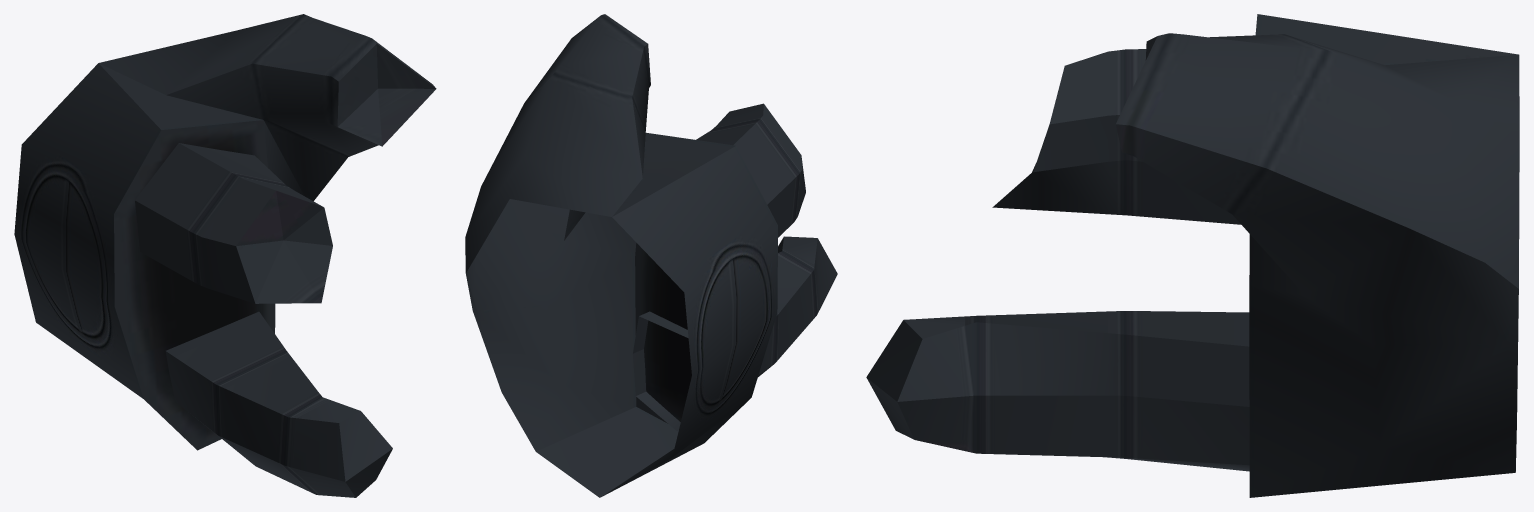
The model's file is Assist_jixiebi03_sunhuai.FBX.
3 views of the same model, side by side, from view 1: azimuth 30°, elevation 25°; view 2: azimuth 150°, elevation 25°; view 3: azimuth 270°, elevation 25° (orthographic). The views are drawn at different scales.
Parts seen in each view (by area): view 1: Assist_jixiebi03_sunhuai; view 2: Assist_jixiebi03_sunhuai; view 3: Assist_jixiebi03_sunhuai.
Part boxes in pixels (x1,y1,x2,y2): Assist_jixiebi03_sunhuai: (14,14,436,497); Assist_jixiebi03_sunhuai: (465,14,837,497); Assist_jixiebi03_sunhuai: (866,14,1519,497).
Size of the model in its own units: 0.9283 by 1.3 by 1.44.
1 material, 1 textured.
